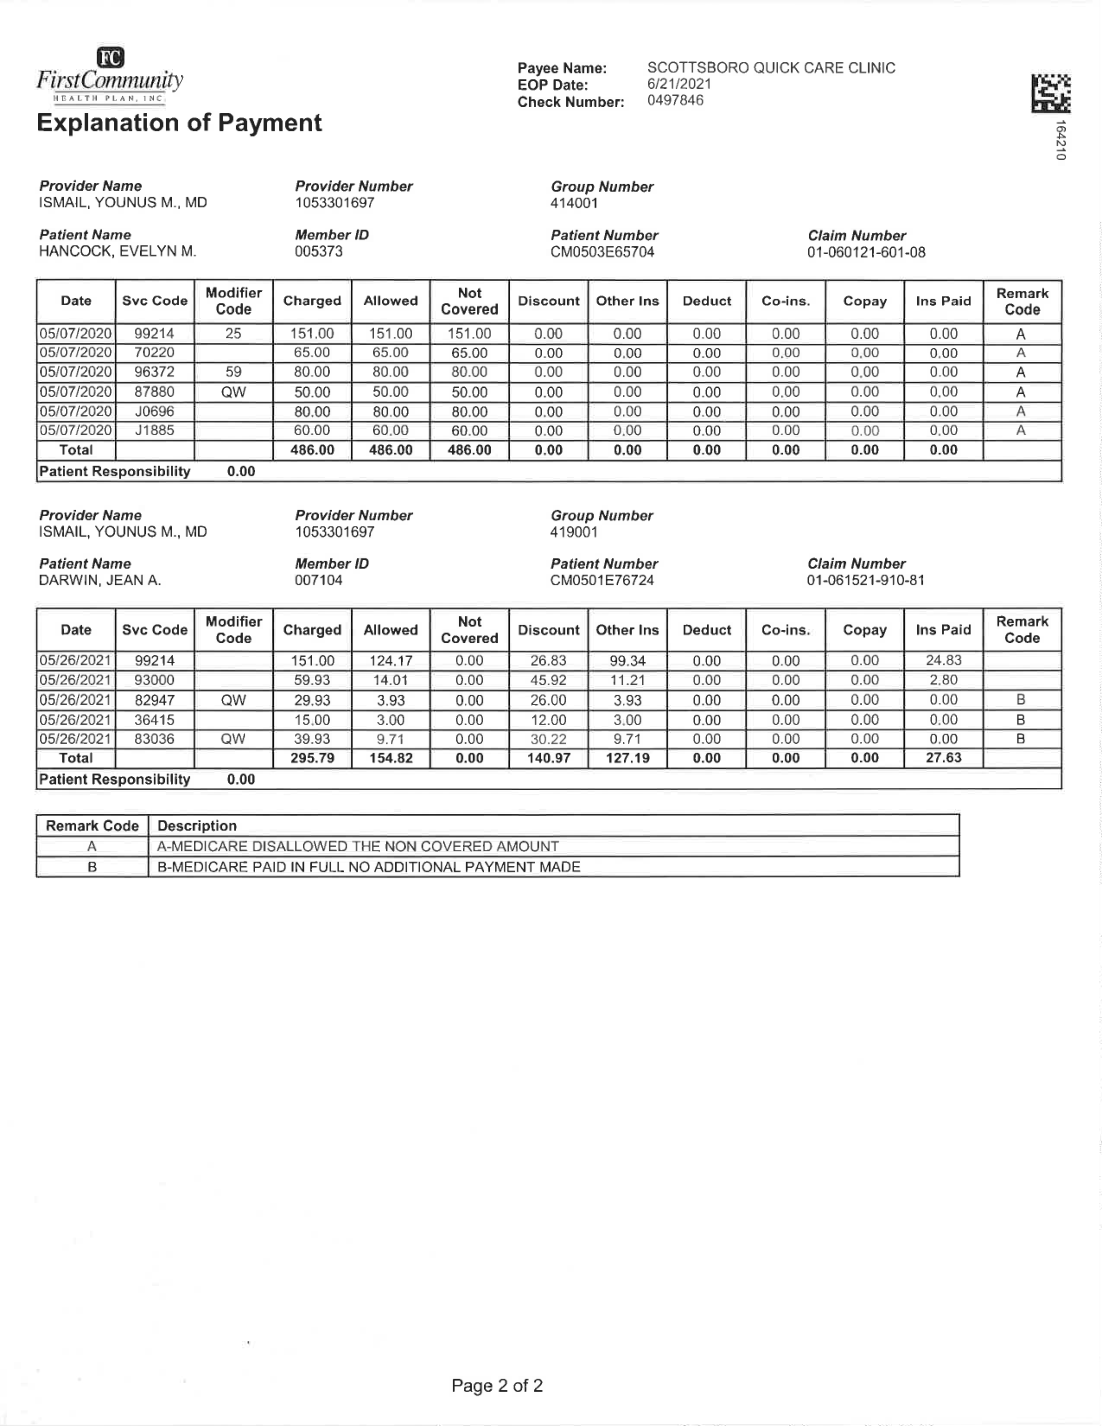data: (32, 161, 943, 267), (29, 501, 939, 596)
table: (31, 271, 1068, 493), (31, 602, 1071, 793)
